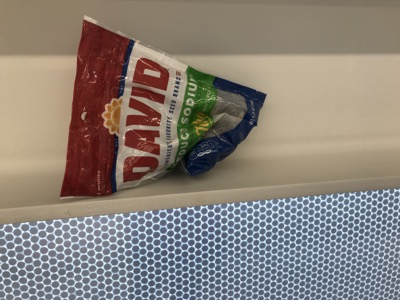sunflower seed: (58, 13, 268, 199)
